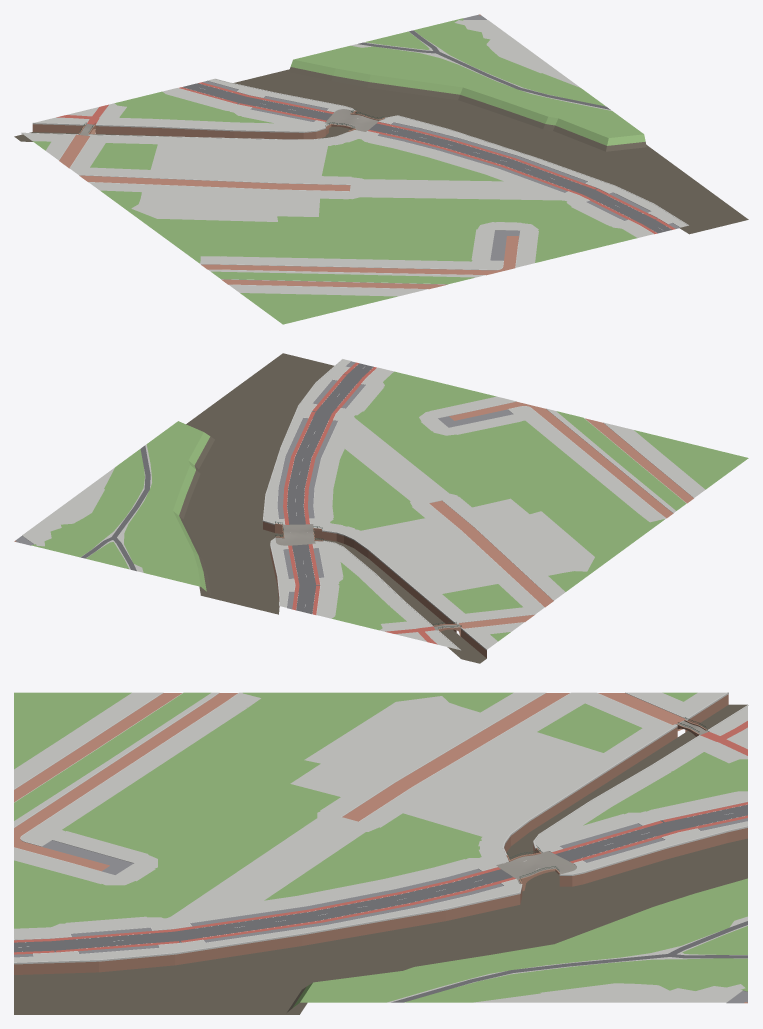
Rendered from ground_6_9.glb.
3 views of the same model, one above another, from view 1: azimuth 30°, elevation 25°; view 2: azimuth 150°, elevation 25°; view 3: azimuth 270°, elevation 25° (orthographic). The views are drawn at different scales.
Parts seen in each view (by area): view 1: ground_6_9; view 2: ground_6_9; view 3: ground_6_9.
Part boxes in pixels (<box>): ground_6_9: <box>14,14,748,324</box>; ground_6_9: <box>14,353,748,663</box>; ground_6_9: <box>14,692,748,1014</box>.
Bounding box in the file's own units: 200 × 5.15 × 200.
